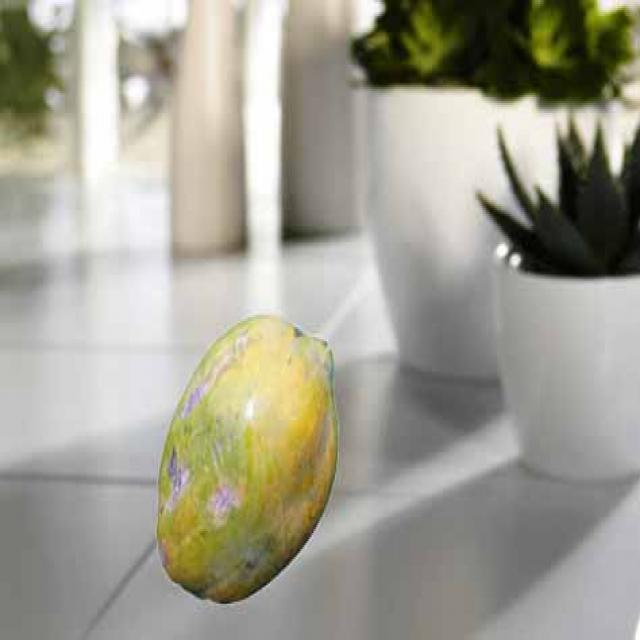Pepaya rippen: (156, 315, 344, 614)
